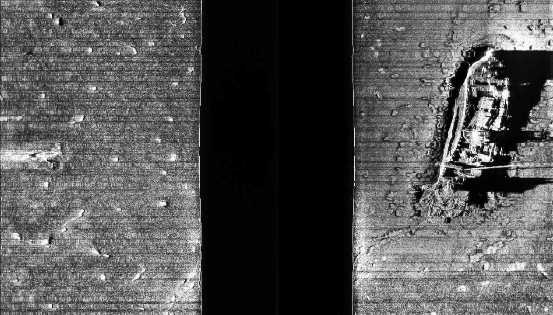ship: (430, 48, 512, 218)
